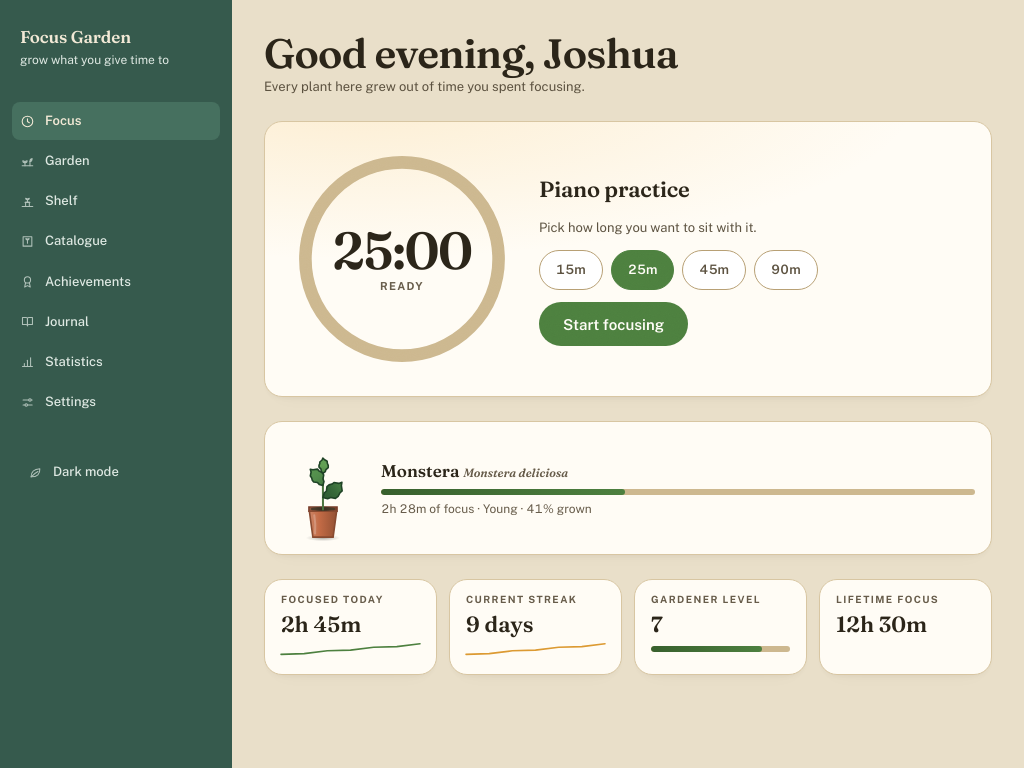
Test: discarding a session › discards once confirmed
Step 1. Click the button "Start focusing" → (614, 324), box [539,302,688,346]
Wait 60000 ms
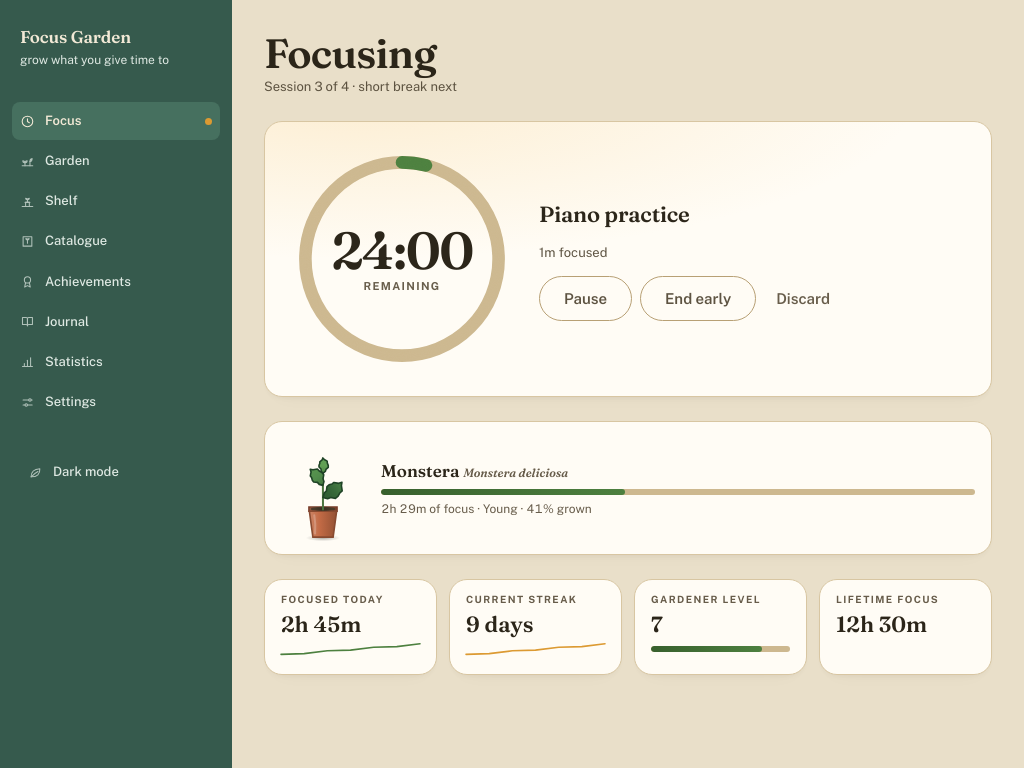
Step 2. Click the button "Discard" → (803, 298), box [764,276,842,321]
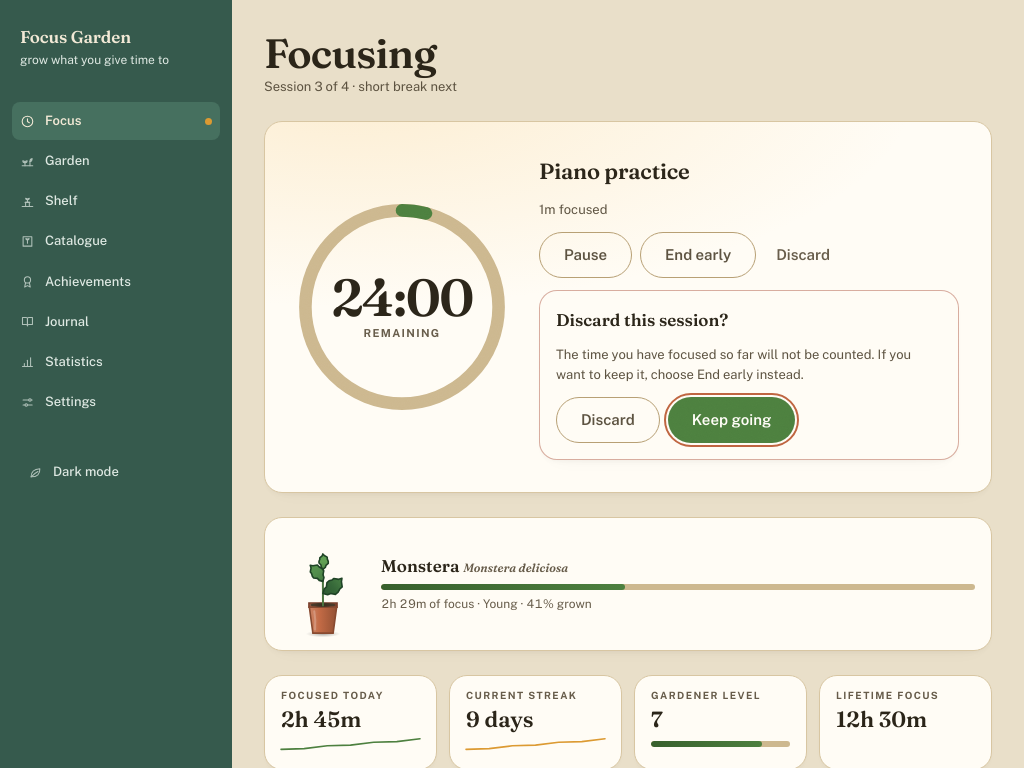
Step 3. Click the button "Discard" below "Discard this session?" → (608, 420), box [556,397,660,443]
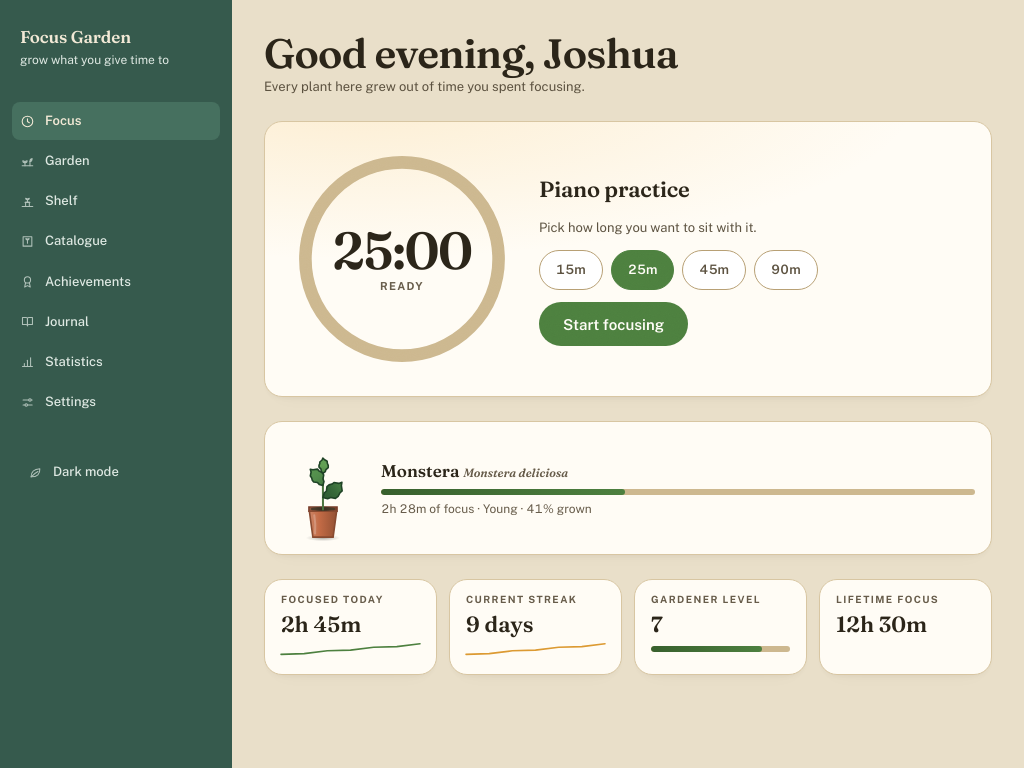
Result: the button "Start focusing" is shown at [539,302,688,346]
